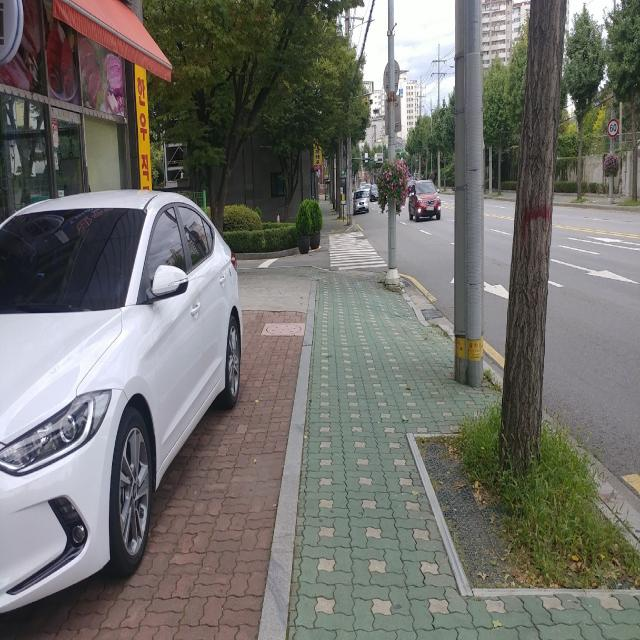횡단보도: (328, 231, 388, 271)
